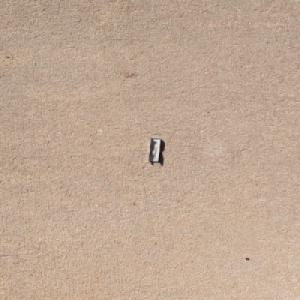ClampPart: (146, 136, 162, 162)
